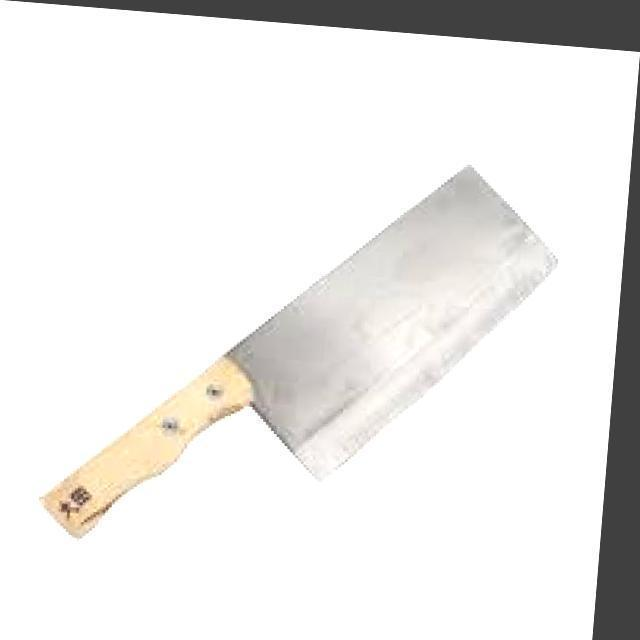Knife: (43, 124, 574, 571)
